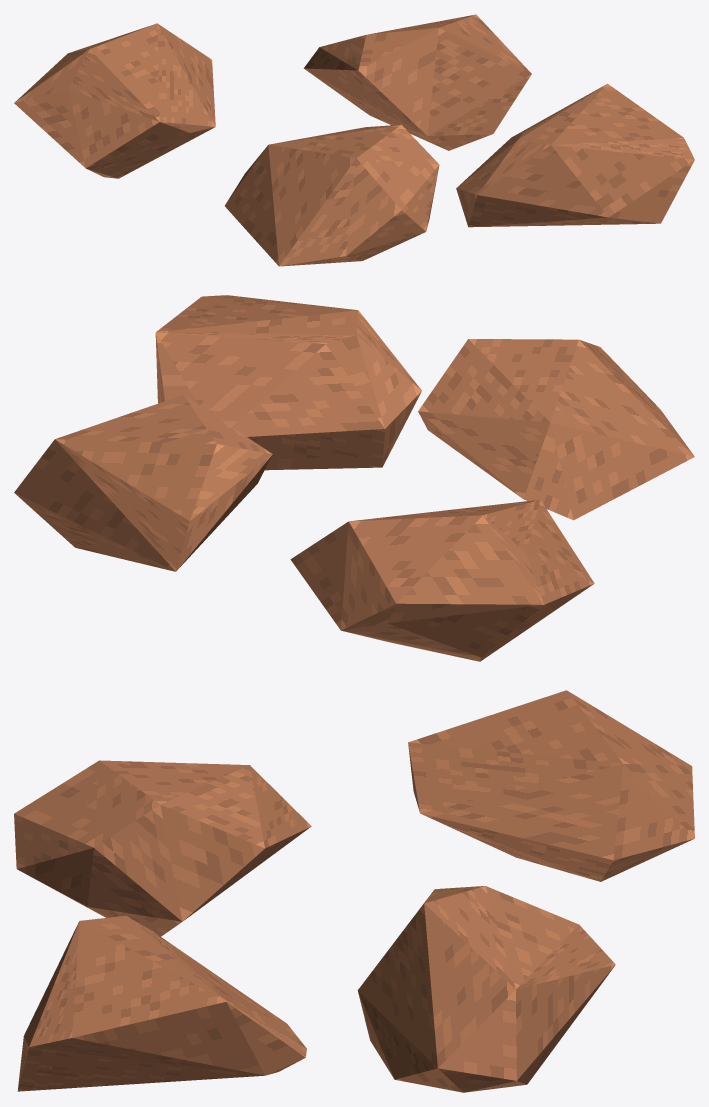
The model's file is copper.glb.
The picture shows the model from 3 angles, top to bottom: view 1: azimuth 30°, elevation 25°; view 2: azimuth 150°, elevation 25°; view 3: azimuth 270°, elevation 25°; orthographic projection. The views are drawn at different scales.
Parts seen in each view (by area): view 1: block_material fragments (×4); view 2: block_material fragments (×4); view 3: block_material fragments (×4).
Boxes of the visible parts, left/top/right/bottom form: block_material fragments (×4): left=14, top=14, right=694, bottom=266; block_material fragments (×4): left=14, top=295, right=694, bottom=661; block_material fragments (×4): left=14, top=690, right=694, bottom=1092.
Size of the model in its own units: 0.0188 by 0.00476 by 0.0172.
Materials: 1 (1 with a texture image).
